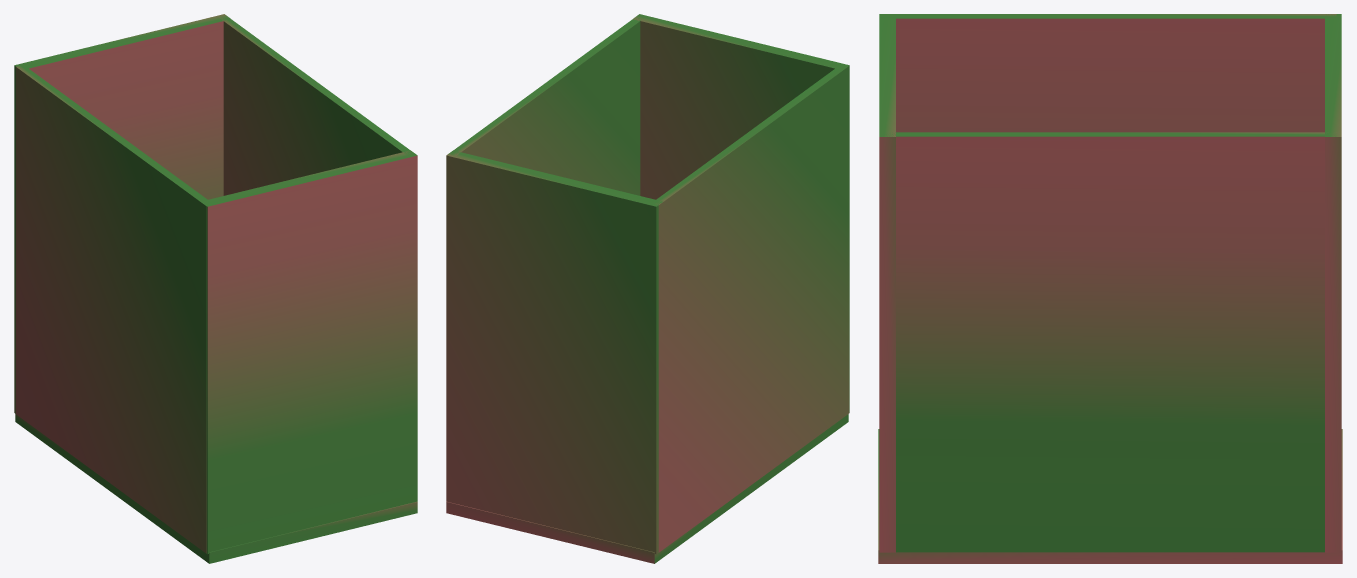
The model's file is Office_Box.fbx.
The picture shows the model from 3 angles, left to right: view 1: azimuth 30°, elevation 25°; view 2: azimuth 150°, elevation 25°; view 3: azimuth 270°, elevation 25°; orthographic projection. The views are drawn at different scales.
Parts seen in each view (by area): view 1: Office_Box; view 2: Office_Box; view 3: Office_Box.
Part boxes in pixels (x1,y1,x2,y2): Office_Box: (14,14,417,563); Office_Box: (446,14,849,563); Office_Box: (878,14,1342,563).
Size of the model in its own units: 29.87 by 48.45 by 47.69.
